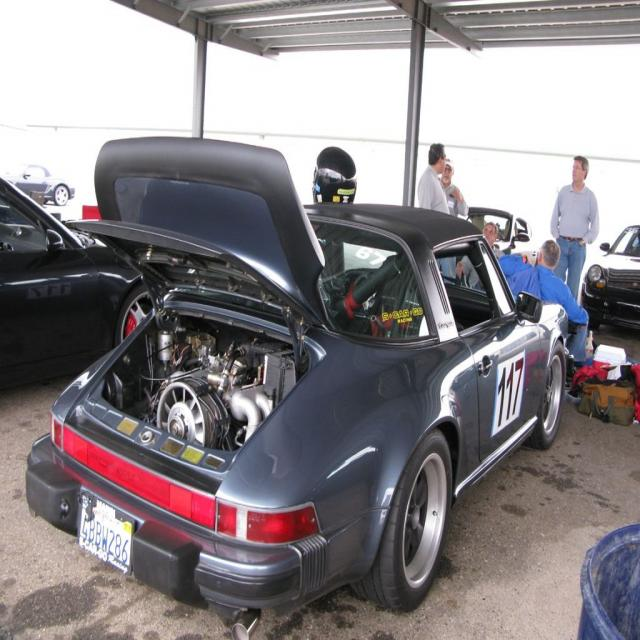other: (20, 135, 576, 640), (0, 173, 154, 389), (582, 222, 640, 333), (466, 205, 536, 262), (4, 160, 73, 206)
